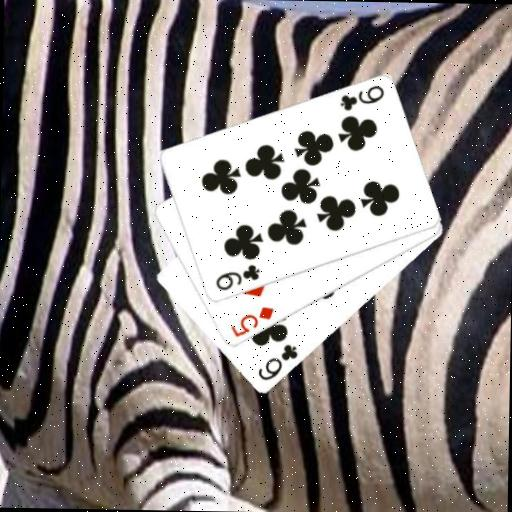5D: (227, 304, 276, 340)
6C: (254, 341, 300, 384)
9C: (212, 261, 262, 293), (336, 82, 386, 114)
